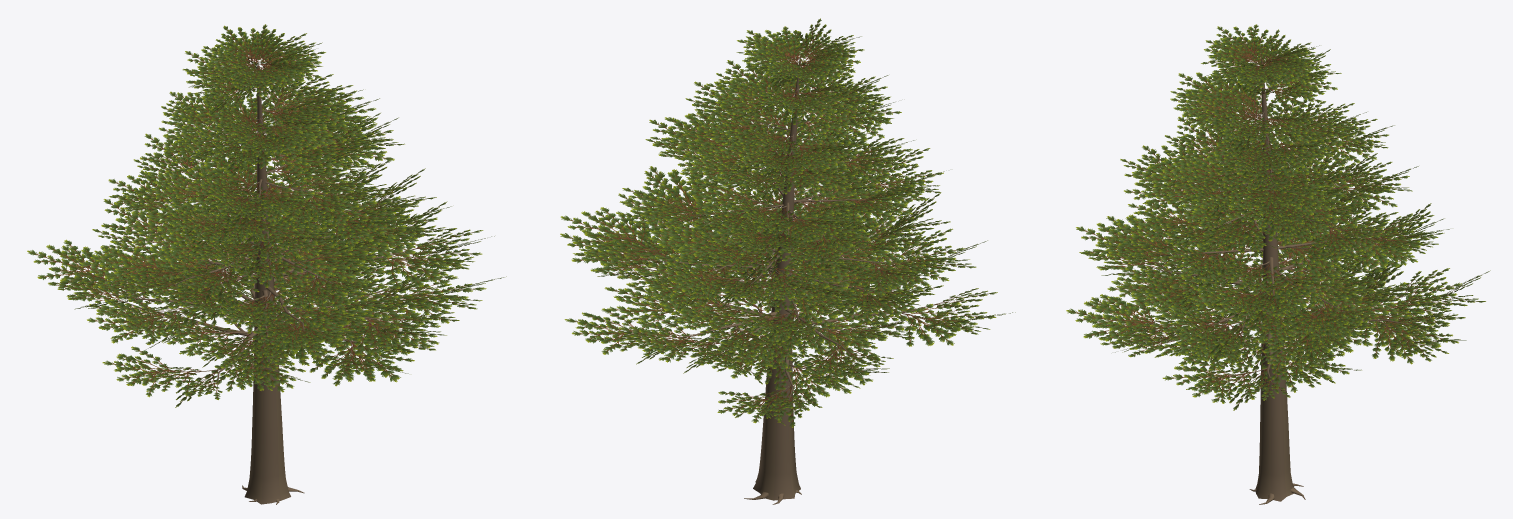
Rendered from corealm_pine_5.glb.
3 renders of one model, left to right at view 1: azimuth 30°, elevation 25°; view 2: azimuth 150°, elevation 25°; view 3: azimuth 270°, elevation 25°, orthographic. The views are drawn at different scales.
Visible parts, largest first — view 1: corealm_pine_5; view 2: corealm_pine_5; view 3: corealm_pine_5.
Part boxes in pixels (<box>): corealm_pine_5: <box>27,24,506,504</box>; corealm_pine_5: <box>560,18,1015,504</box>; corealm_pine_5: <box>1066,24,1490,504</box>.
Size of the model in its own units: 6.4 by 6.77 by 6.04.
Materials: 2 (1 with a texture image).
